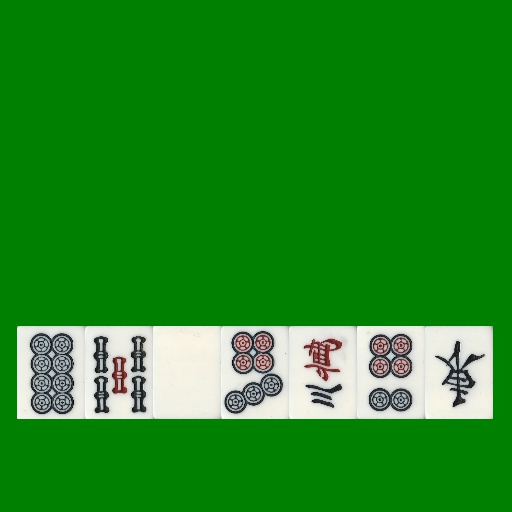3m: (289, 326, 357, 419)
5s: (85, 326, 153, 419)
6p: (357, 326, 425, 419)
7p: (221, 326, 289, 419)
8p: (17, 326, 85, 419)
east: (425, 326, 493, 419)
white: (153, 326, 221, 419)
